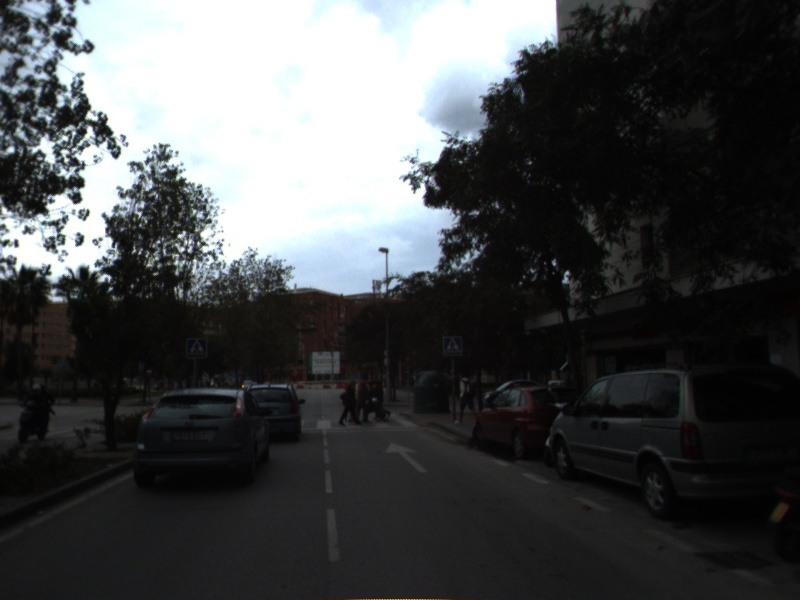STRAIGHT: (384, 441, 431, 474)
